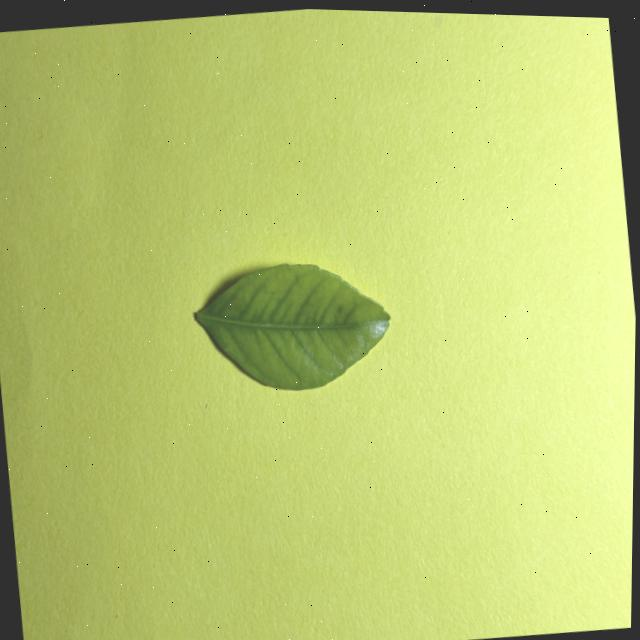greening: (195, 264, 389, 390)
